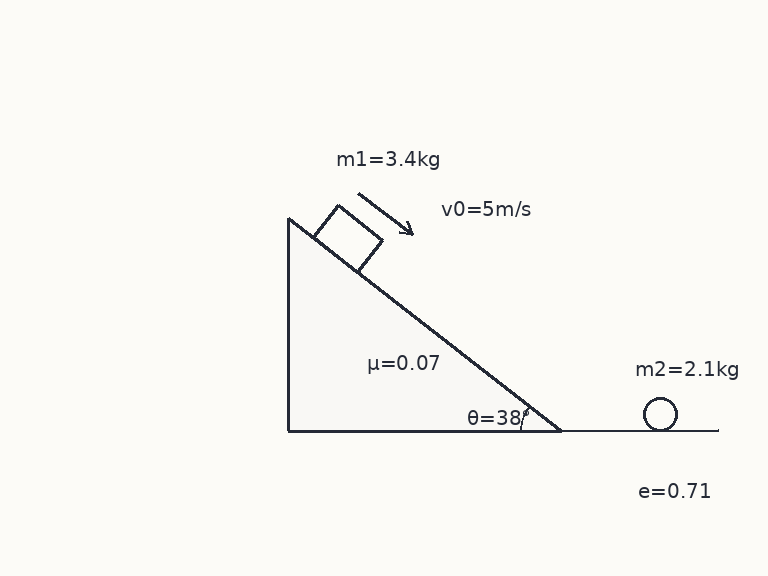ball: (641, 395, 679, 433)
block: (311, 203, 384, 274)
ramp: (286, 216, 563, 433)
